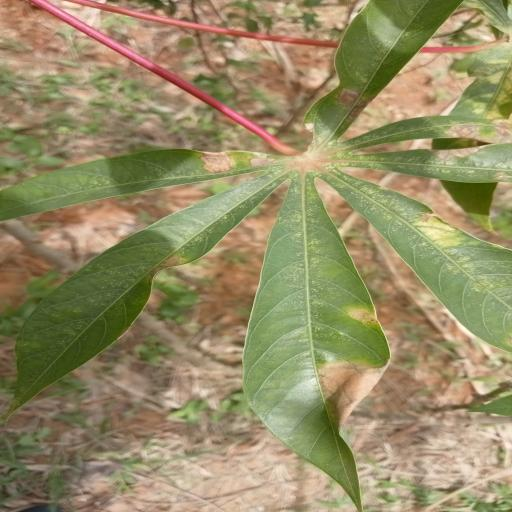Cassava_Root_Rot: (27, 0, 512, 481)
